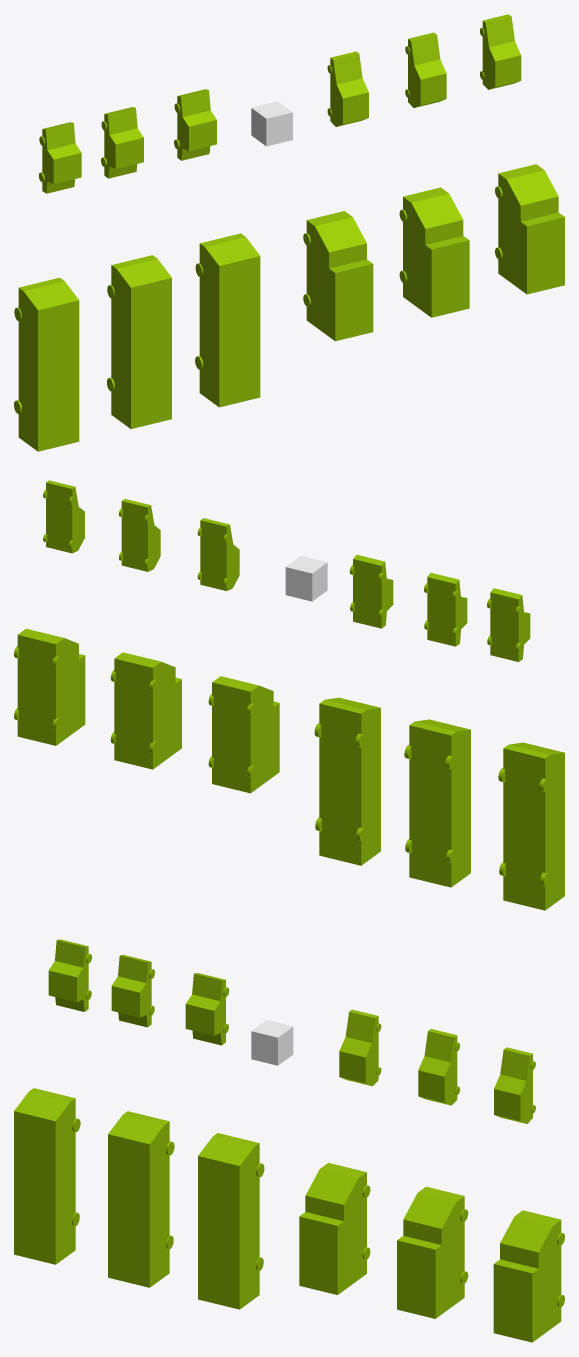
The model's file is world.obj.
The picture shows the model from 3 angles, top to bottom: view 1: azimuth 30°, elevation 25°; view 2: azimuth 150°, elevation 25°; view 3: azimuth 330°, elevation 25°; orthographic projection.
Parts seen in each view (by area): view 1: Car_11_Car_11, Car_12_Car_12, Car_10_Car_10, Car_09_Car_09, Car_08_Car_08, Car_07_Car_07, CAR_01_CAR_01, CAR_03_CAR_03, CAR_02_CAR_02, Car_06_Car_06, Car_05_Car_05, Car_04_Car_04 (+1 smaller); view 2: Car_10_Car_10, Car_11_Car_11, Car_12_Car_12, Car_07_Car_07, Car_08_Car_08, Car_09_Car_09, Car_04_Car_04, Car_06_Car_06, Car_05_Car_05, CAR_02_CAR_02, CAR_03_CAR_03, CAR_01_CAR_01 (+1 smaller); view 3: Car_10_Car_10, Car_12_Car_12, Car_11_Car_11, Car_07_Car_07, Car_09_Car_09, Car_08_Car_08, CAR_03_CAR_03, CAR_02_CAR_02, CAR_01_CAR_01, Car_04_Car_04, Car_05_Car_05, Car_06_Car_06 (+1 smaller).
Part boxes in pixels (x1,y1,x2,y2): Car_11_Car_11: (195,233,260,407); Car_12_Car_12: (14,277,79,451); Car_10_Car_10: (107,255,171,428); Car_09_Car_09: (303,211,373,341); Car_08_Car_08: (399,187,469,317); Car_07_Car_07: (495,164,564,294); CAR_01_CAR_01: (480,14,521,89); CAR_03_CAR_03: (327,51,368,126); CAR_02_CAR_02: (405,32,446,107); Car_06_Car_06: (101,107,143,178); Car_05_Car_05: (174,89,216,160); Car_04_Car_04: (39,122,81,193); Car_10_Car_10: (404,719,470,887); Car_11_Car_11: (314,697,380,865); Car_12_Car_12: (498,742,564,910); Car_07_Car_07: (14,628,85,745); Car_08_Car_08: (110,652,181,769); Car_09_Car_09: (208,676,279,793); Car_04_Car_04: (487,588,530,661); Car_06_Car_06: (424,573,467,646); Car_05_Car_05: (349,554,393,628); CAR_02_CAR_02: (119,499,160,571); CAR_03_CAR_03: (197,518,239,590); CAR_01_CAR_01: (43,480,84,553); Car_10_Car_10: (108,1111,174,1287); Car_12_Car_12: (14,1088,80,1264); Car_11_Car_11: (198,1133,264,1309); Car_07_Car_07: (493,1210,564,1342); Car_09_Car_09: (299,1163,370,1294); Car_08_Car_08: (397,1186,468,1318); CAR_03_CAR_03: (339,1009,381,1086); CAR_02_CAR_02: (418,1029,459,1105); CAR_01_CAR_01: (494,1047,535,1123); Car_04_Car_04: (48,939,91,1011); Car_05_Car_05: (185,973,229,1045); Car_06_Car_06: (111,954,154,1027).
Size of the model in its own units: 39.51 by 21.92 by 4.03.
